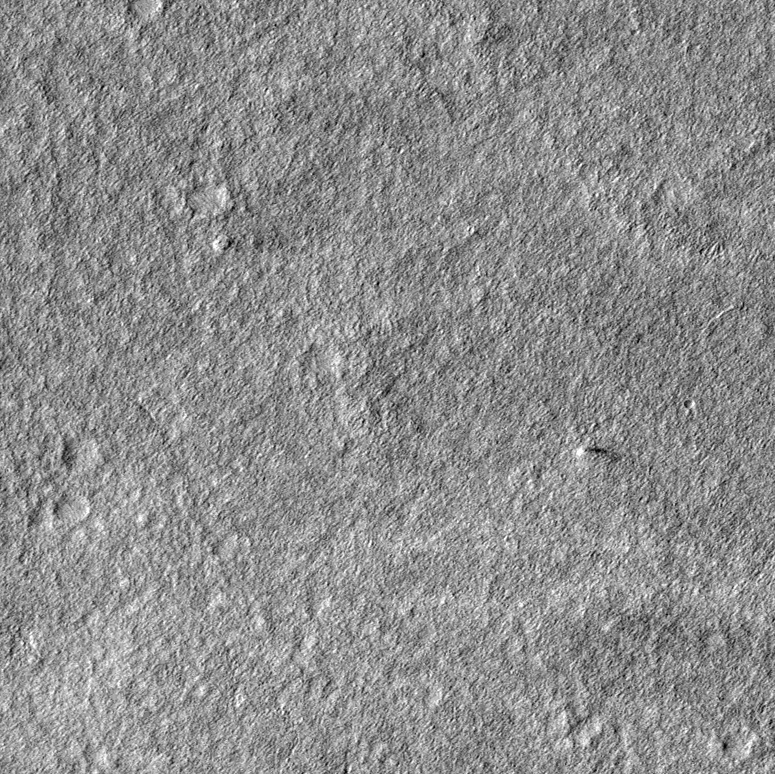dust_devil: (575, 445, 622, 465)
